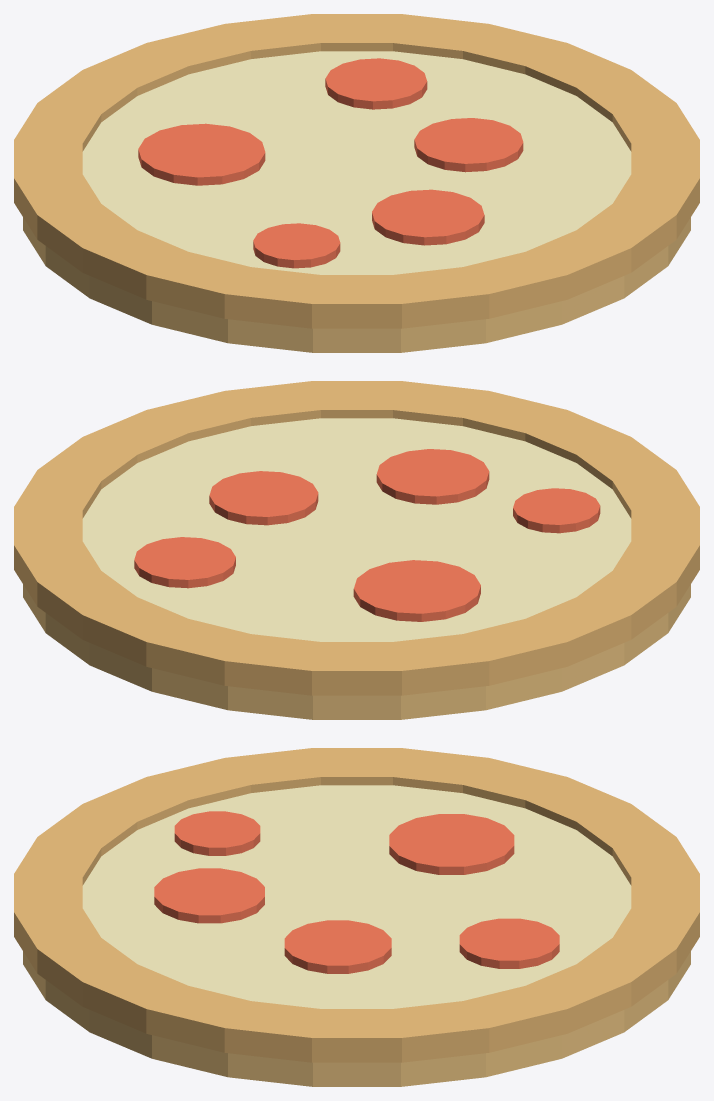
The model's file is Pizza01.fbx.
3 renders of one model, top to bottom at view 1: azimuth 30°, elevation 25°; view 2: azimuth 150°, elevation 25°; view 3: azimuth 270°, elevation 25°, orthographic.
Visible parts, largest first — view 1: PizzaFull; view 2: PizzaFull; view 3: PizzaFull.
Part boxes in pixels (box(x1,y1,x2,y2)): PizzaFull: box(14, 14, 699, 352); PizzaFull: box(14, 381, 699, 719); PizzaFull: box(14, 748, 699, 1086).
Size of the model in its own units: 87.1 by 7.4 by 87.1.
